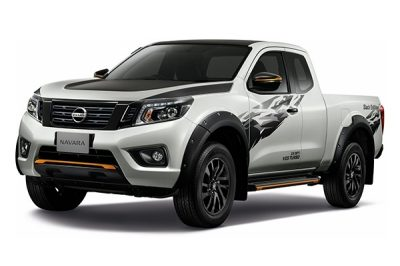pickup: (15, 38, 386, 229)
